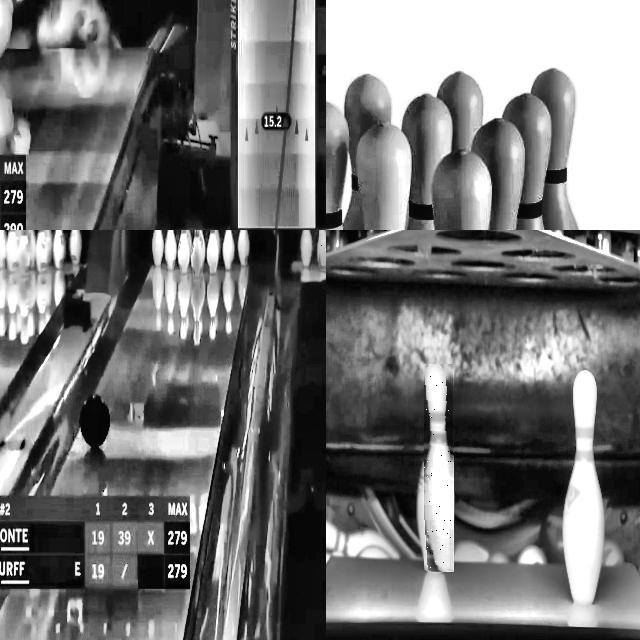bowling-ball: (80, 396, 110, 448)
bowling-pins: (563, 370, 605, 605), (343, 73, 392, 230), (533, 68, 580, 230), (402, 94, 453, 230), (504, 92, 552, 230), (357, 123, 412, 230), (473, 118, 525, 230), (425, 365, 451, 570), (438, 71, 484, 151), (35, 230, 50, 271), (190, 230, 202, 276), (6, 230, 19, 271), (206, 230, 218, 273), (222, 230, 235, 269), (52, 230, 65, 268), (69, 230, 81, 271), (164, 230, 176, 270), (18, 230, 30, 270), (178, 230, 189, 273), (152, 230, 164, 266), (238, 230, 250, 265), (301, 230, 312, 267), (26, 230, 35, 268), (44, 230, 52, 263), (320, 230, 326, 267)
